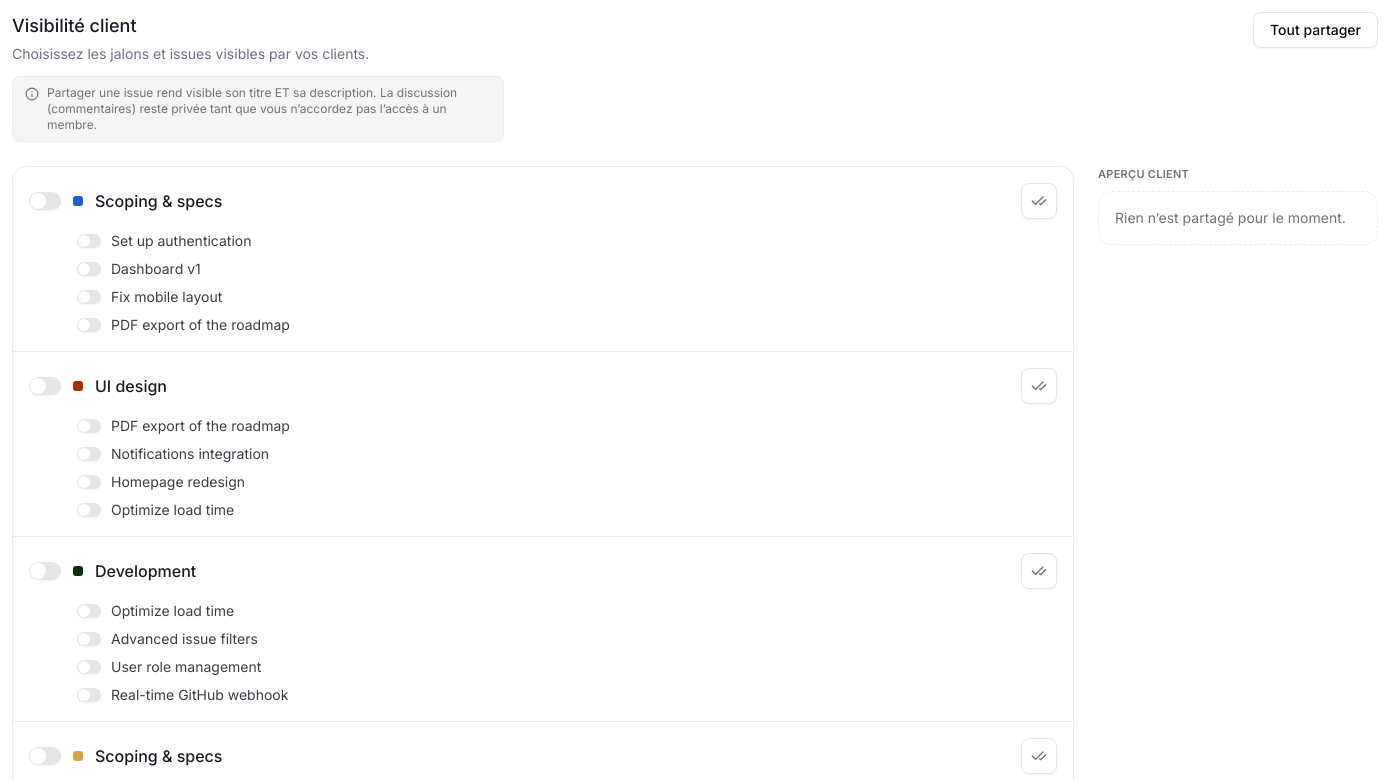
Scenario: share-picker (#4) › toggling a milestone populates the client preview
expect the text "Rien n’est partagé pour le moment." is shown: met, box [1098,190,1378,244]
Click the 1st switch named "Scoping & specs".
click(45, 201)  # box [29,192,61,210]
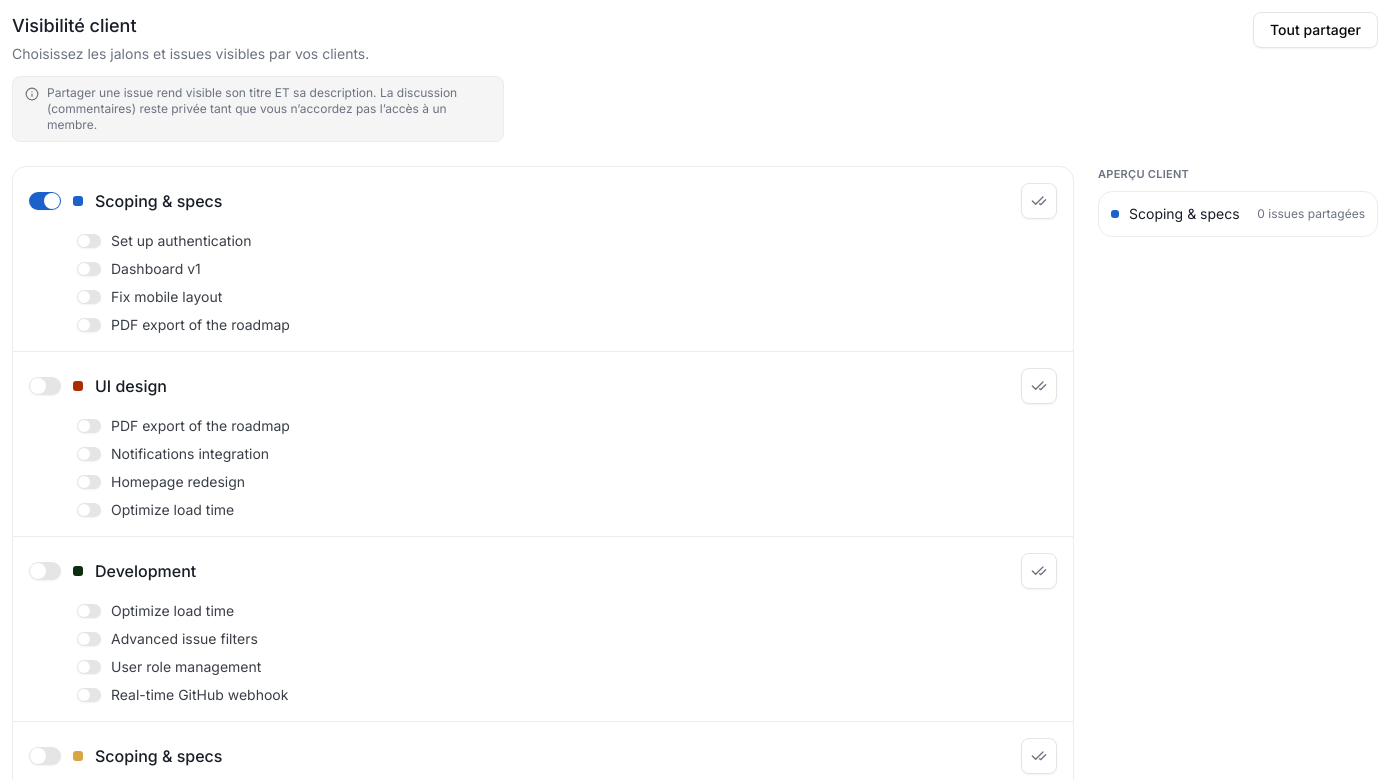
expect the text "Rien n’est partagé pour le moment." is gone: met
